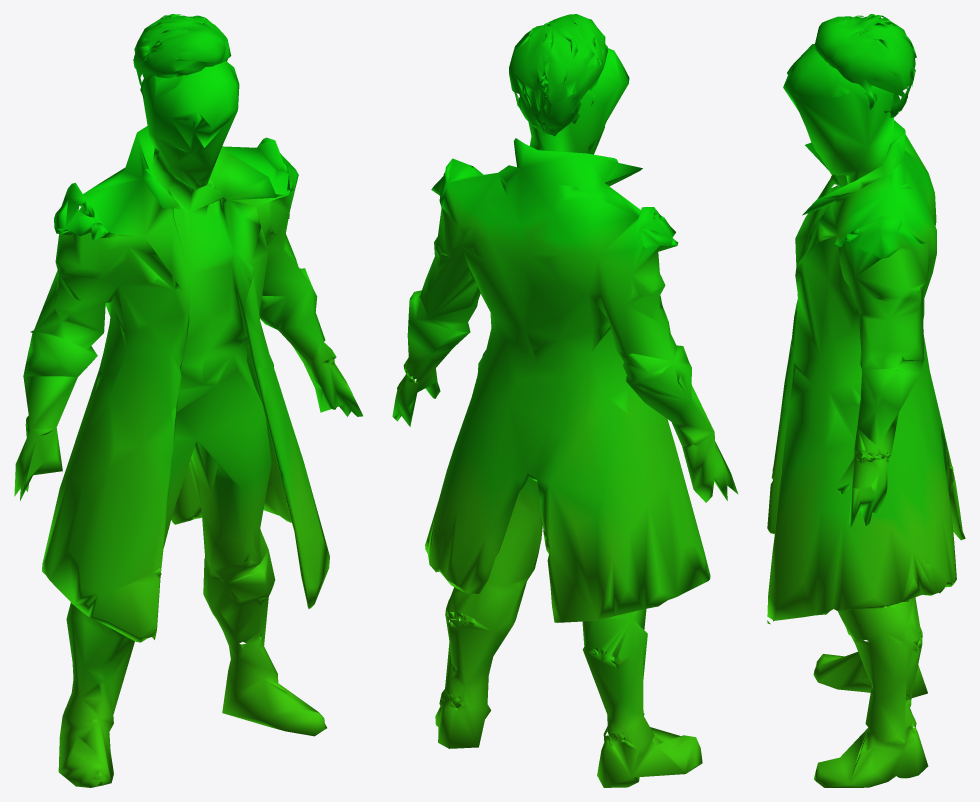
File: compose_captain.glb
The picture shows the model from 3 angles, left to right: view 1: azimuth 30°, elevation 25°; view 2: azimuth 150°, elevation 25°; view 3: azimuth 270°, elevation 25°; orthographic projection. The views are drawn at different scales.
Parts seen in each view (by area): view 1: compose_captain; view 2: compose_captain; view 3: compose_captain.
Boxes of the visible parts, x1,y1,x2,y2 form: compose_captain: (14,14,362,787); compose_captain: (392,14,737,787); compose_captain: (767,14,965,787).
Bounding box in the file's own units: 1 × 2.02 × 0.5113.
